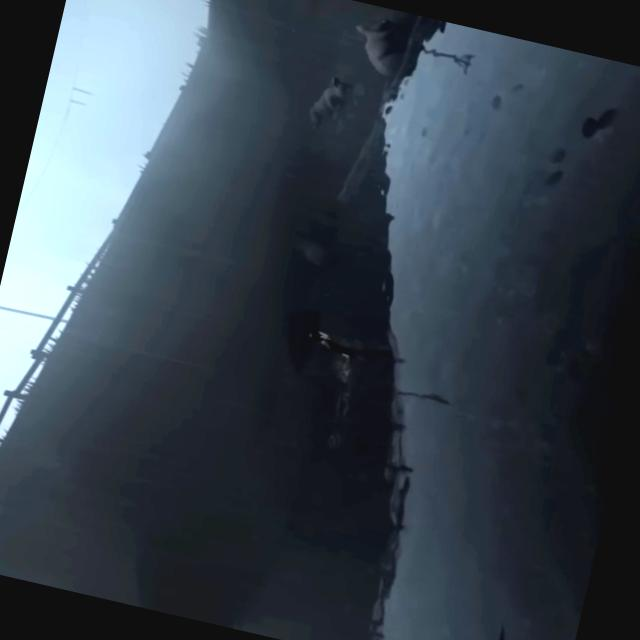boy: (304, 328, 354, 358)
